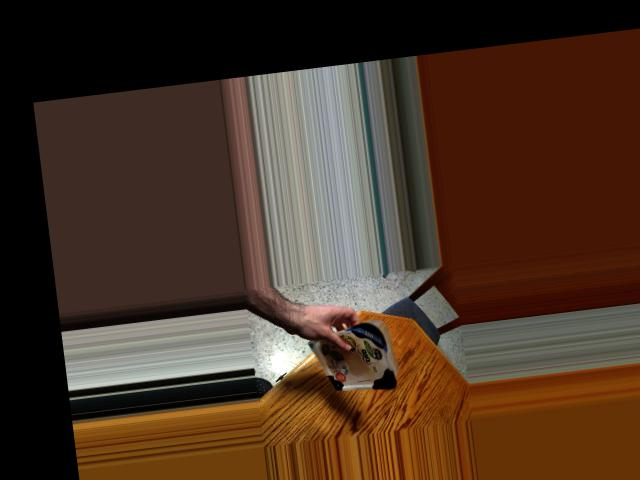cheese: (322, 315, 403, 392)
